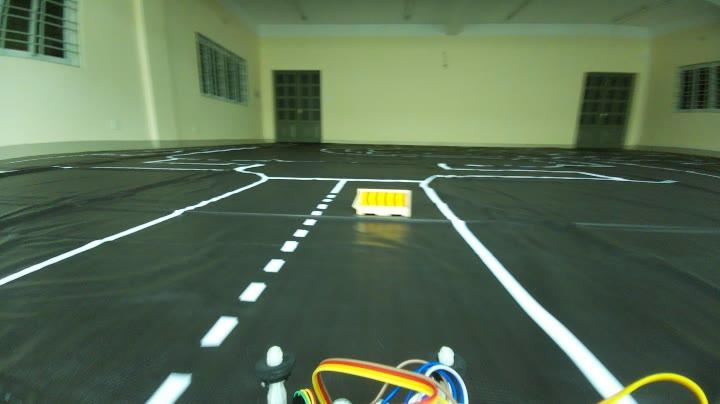roadblock: (348, 181, 424, 232)
